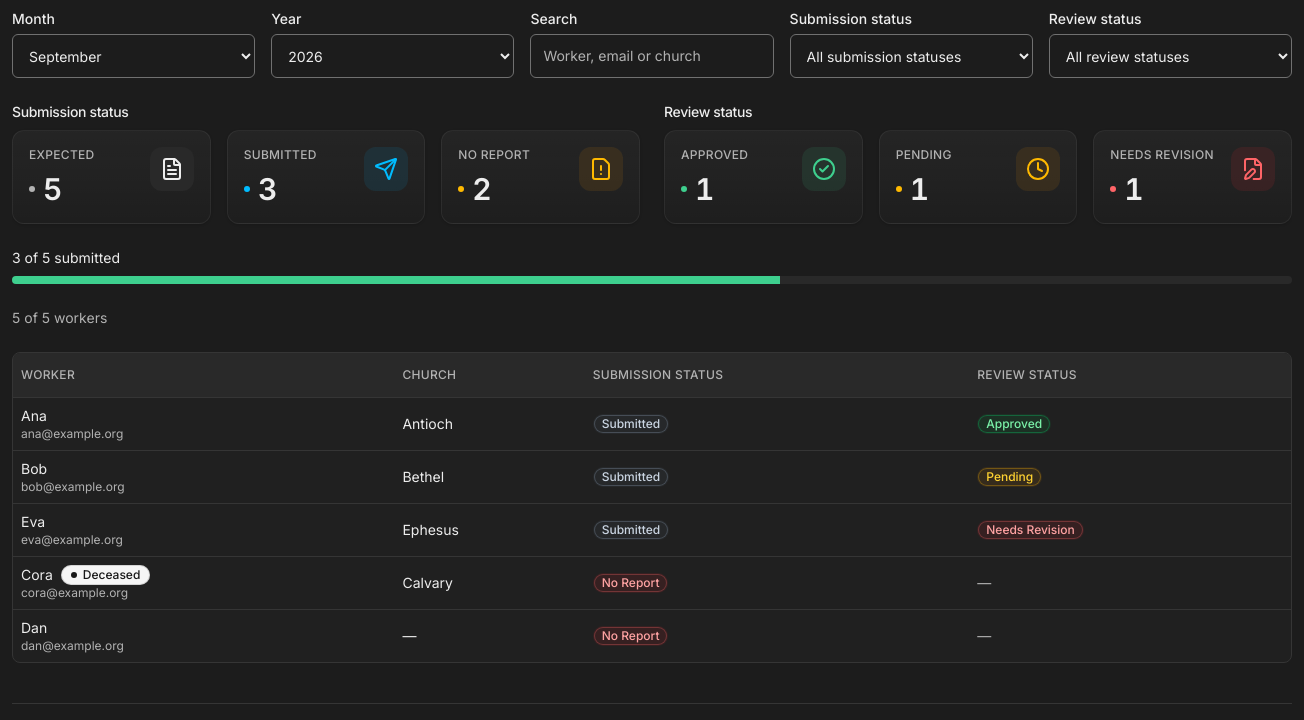
Test: tracker › says when no worker matches
Check: the text "Ana" is shown, box x1=21 y1=406 x2=47 y2=424
Type "nobody" into the search field labelled "Search" at (652, 56), box x1=530 y1=34 x2=774 y2=78
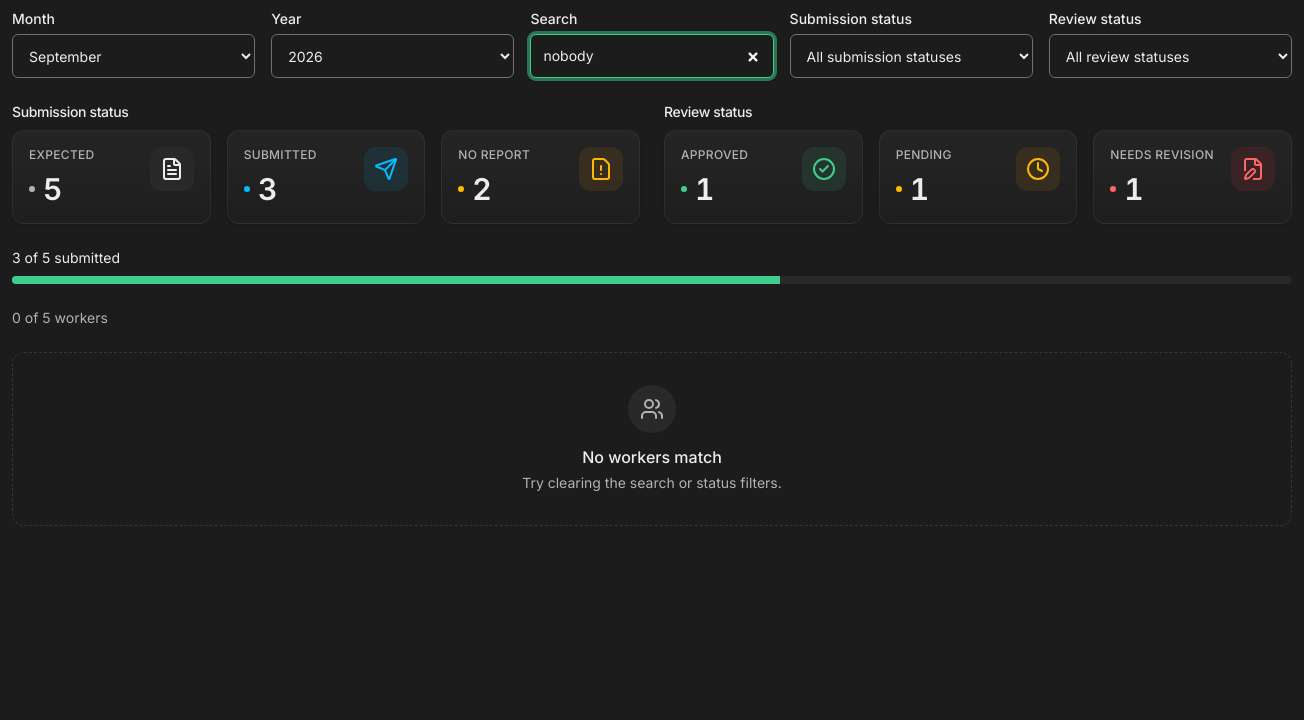
Check: the text "No workers match" is shown, box x1=582 y1=447 x2=722 y2=467
Check: the table is gone
